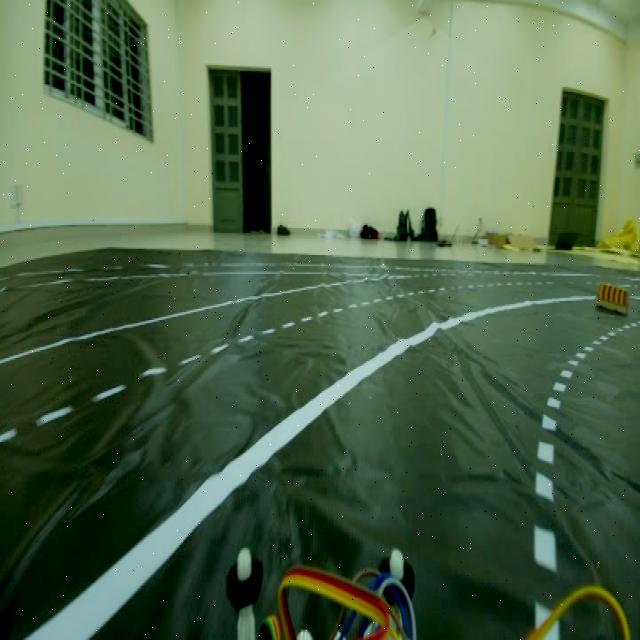roadblock: (589, 272, 628, 336)
